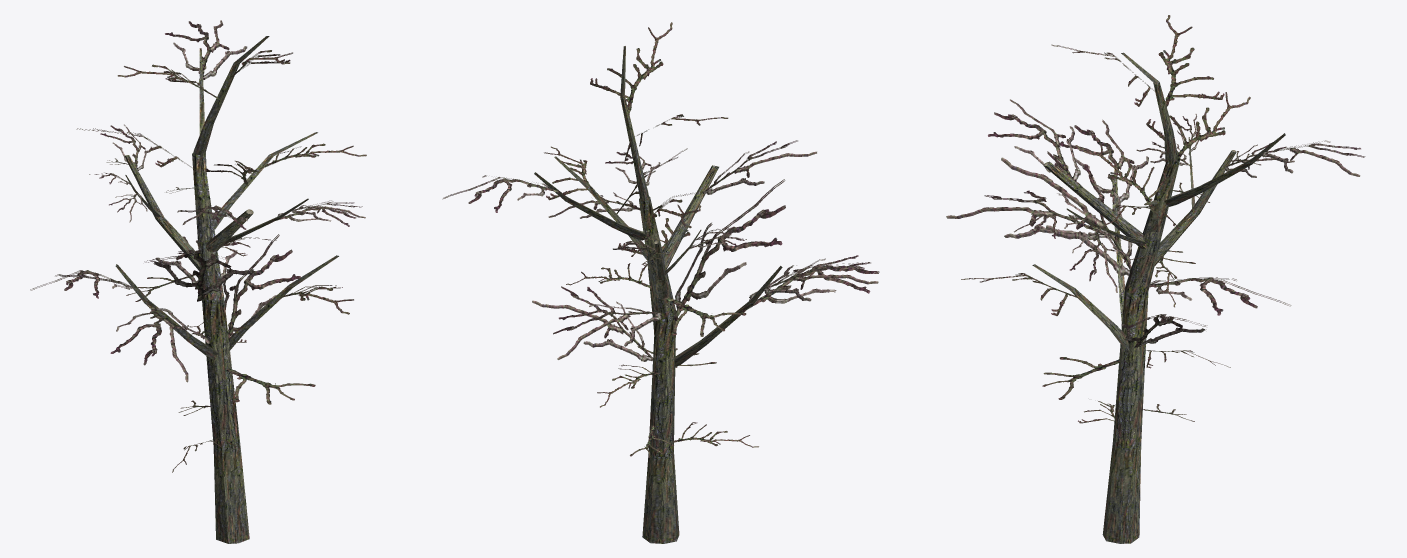
The model's file is dead_tree_v3.glb.
3 renders of one model, left to right at view 1: azimuth 30°, elevation 25°; view 2: azimuth 150°, elevation 25°; view 3: azimuth 270°, elevation 25°, orthographic. The views are drawn at different scales.
Parts seen in each view (by area): view 1: dead_deciduous_4; view 2: dead_deciduous_4; view 3: dead_deciduous_4.
Boxes of the visible parts, x1=… form: dead_deciduous_4: x1=30, y1=20, x2=366, y2=543; dead_deciduous_4: x1=442, y1=22, x2=879, y2=543; dead_deciduous_4: x1=946, y1=15, x2=1365, y2=543.
Size of the model in its own units: 11.9 by 15.33 by 12.56.
Materials: 1 (1 with a texture image).
